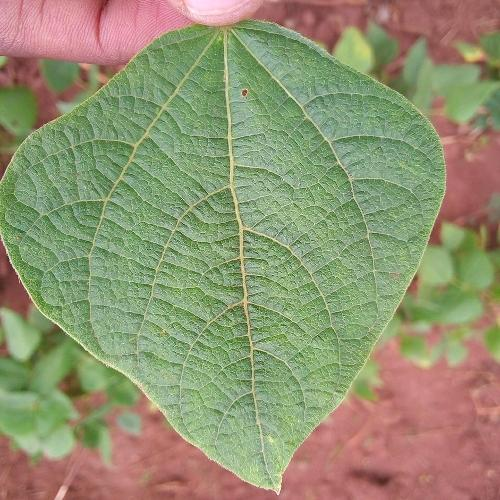sehat: (84, 79, 380, 348)
